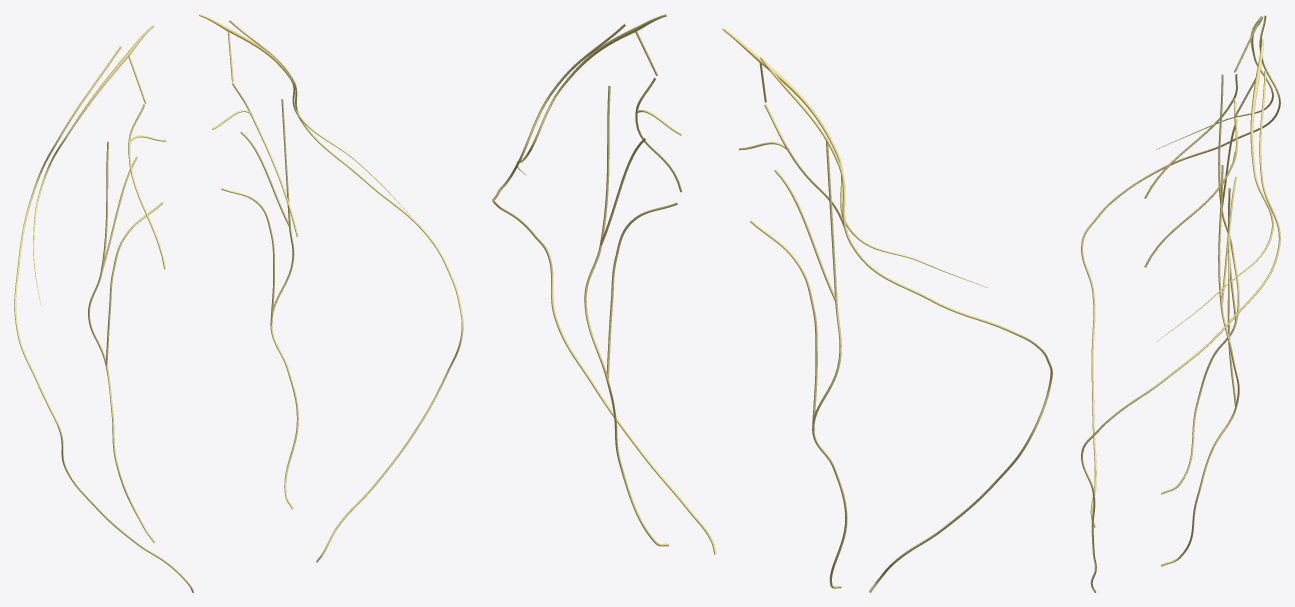
The model's file is nerfs-abdomen.hi.glb.
3 views of the same model, side by side, from view 1: azimuth 30°, elevation 25°; view 2: azimuth 150°, elevation 25°; view 3: azimuth 270°, elevation 25° (orthographic). The views are drawn at different scales.
Parts seen in each view (by area): view 1: ZA-obturator-nerve-d, ZA-obturator-nerve-g, ZA-ilio-inguinal-nerve-g, ZA-ilio-inguinal-nerve-d, ZA-iliohypogastric-nerve-d, ZA-iliohypogastric-nerve-g; view 2: ZA-obturator-nerve-d, ZA-obturator-nerve-g, ZA-ilio-inguinal-nerve-d, ZA-ilio-inguinal-nerve-g, ZA-iliohypogastric-nerve-d, ZA-iliohypogastric-nerve-g; view 3: ZA-obturator-nerve-g, ZA-ilio-inguinal-nerve-g, ZA-ilio-inguinal-nerve-d, ZA-obturator-nerve-d, ZA-iliohypogastric-nerve-g, ZA-iliohypogastric-nerve-d, ZA-genitofemoral-nerve-g, ZA-genitofemoral-nerve-d.
Part boxes in pixels (x1,y1,x2,y2): ZA-obturator-nerve-d: [88, 141, 163, 542]; ZA-obturator-nerve-g: [221, 99, 298, 509]; ZA-ilio-inguinal-nerve-g: [229, 20, 463, 562]; ZA-ilio-inguinal-nerve-d: [14, 46, 193, 592]; ZA-iliohypogastric-nerve-d: [33, 25, 154, 306]; ZA-iliohypogastric-nerve-g: [199, 14, 410, 215]; ZA-obturator-nerve-d: [750, 141, 847, 588]; ZA-obturator-nerve-g: [584, 86, 677, 546]; ZA-ilio-inguinal-nerve-d: [760, 56, 1052, 592]; ZA-ilio-inguinal-nerve-g: [492, 24, 716, 554]; ZA-iliohypogastric-nerve-d: [722, 28, 987, 287]; ZA-iliohypogastric-nerve-g: [516, 14, 666, 175]; ZA-obturator-nerve-g: [1160, 165, 1239, 566]; ZA-ilio-inguinal-nerve-g: [1081, 71, 1280, 592]; ZA-ilio-inguinal-nerve-d: [1081, 15, 1280, 527]; ZA-obturator-nerve-d: [1160, 74, 1239, 494]; ZA-iliohypogastric-nerve-g: [1156, 39, 1273, 341]; ZA-iliohypogastric-nerve-d: [1156, 16, 1273, 149]; ZA-genitofemoral-nerve-g: [1144, 119, 1237, 267]; ZA-genitofemoral-nerve-d: [1144, 74, 1237, 198].
Size of the model in its own units: 0.2459 by 0.2816 by 0.0957.
